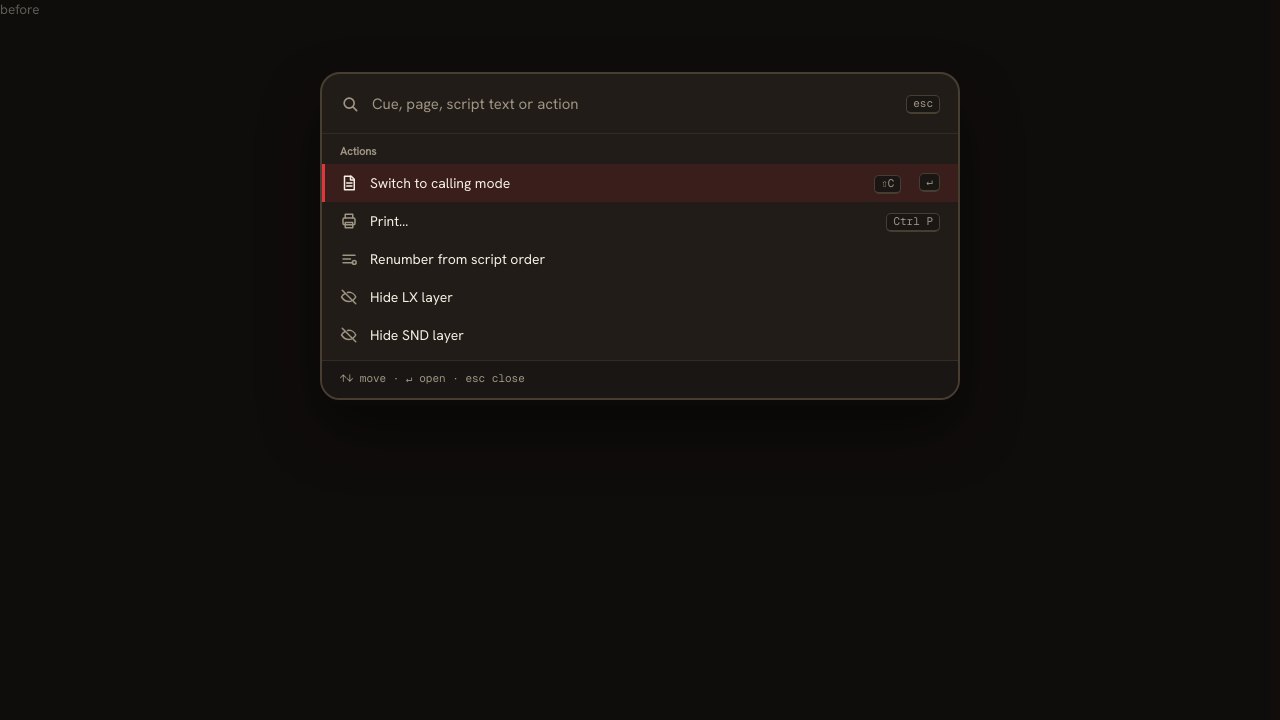
Test case: CommandPalette › draws the four groups in their fixed order, only the ones that have results
In the dropdown: (633, 104) top-left (372, 90), bottom-right (894, 117), type "lx 12"
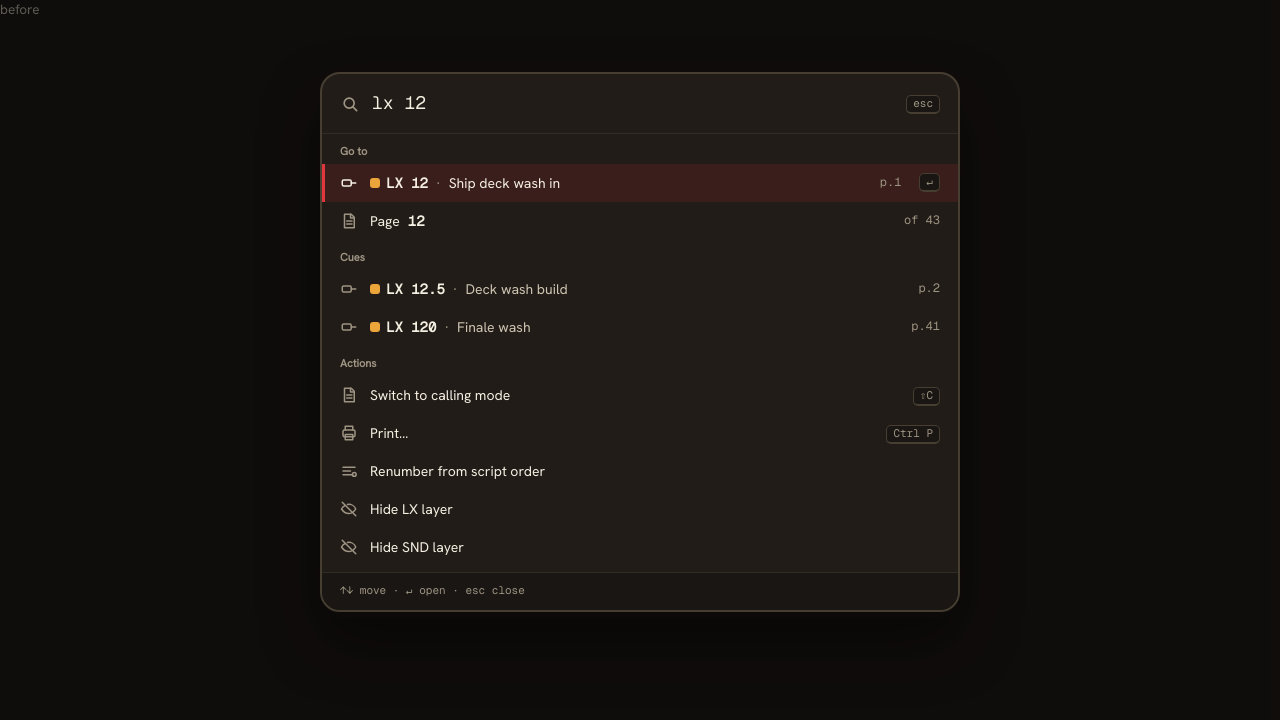
Now the option "LX 12 · Ship deck wash in p.1 ↵" is shown, box top-left (322, 164), bottom-right (958, 202)
